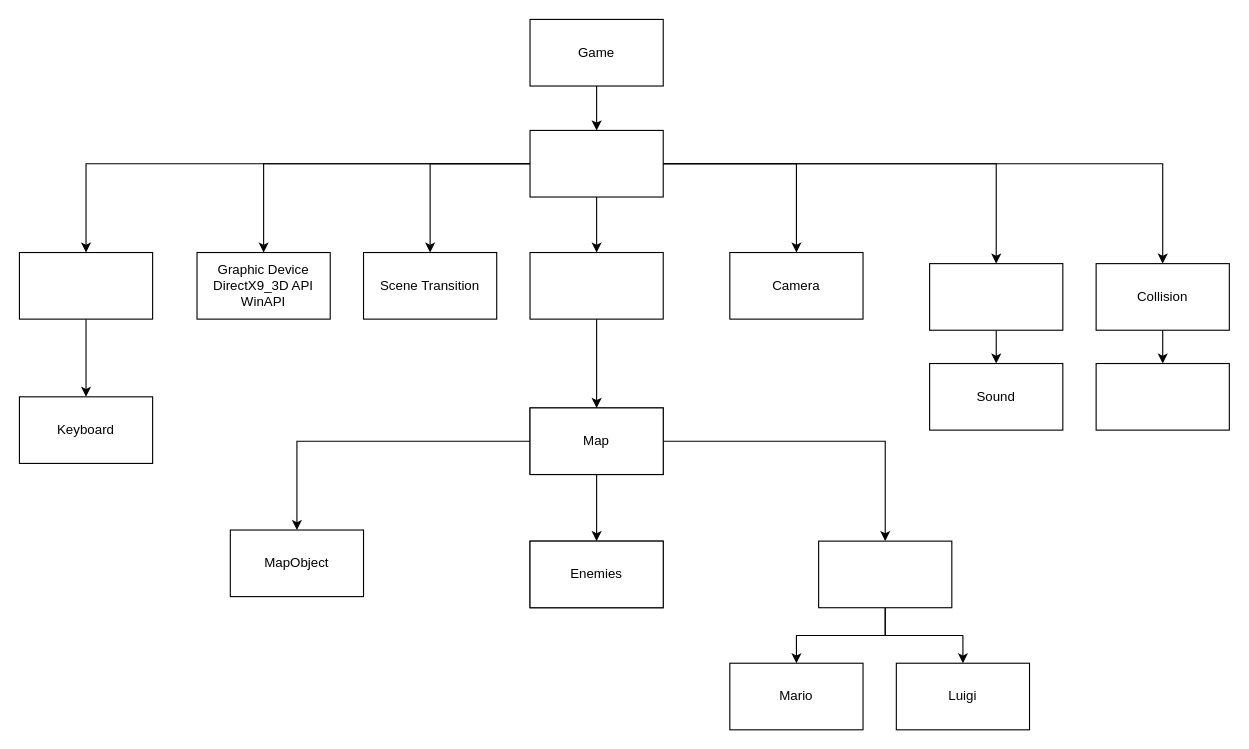
This 1249x749 diagram has some shape labels left out. Each missing label, with the centre of its shape:
Input: the point at 85,285
Output: the point at 996,296
Player: the point at 885,574
Scene: the point at 596,285
SceneManager: the point at 596,163
Swept AABB: the point at 1162,396
